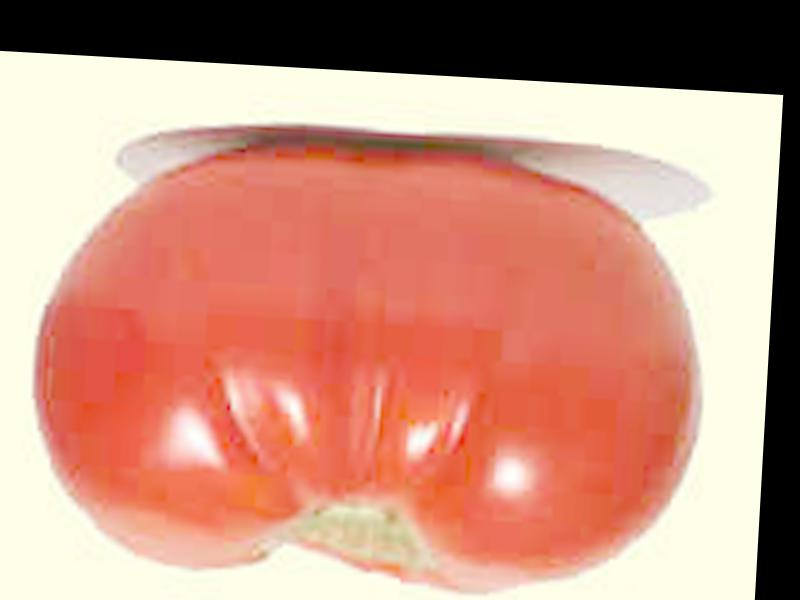Tomato: (21, 132, 711, 600)
